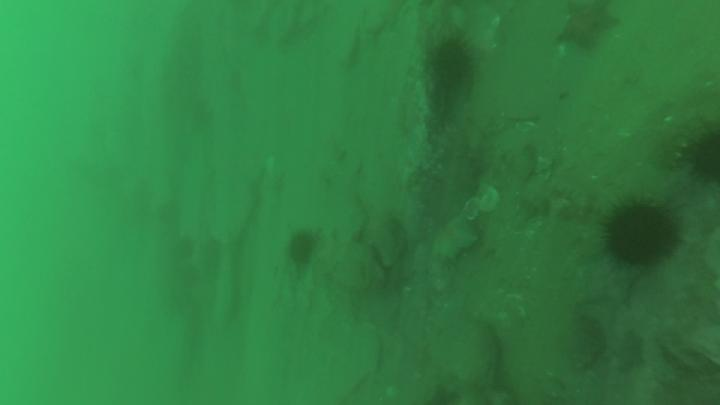echinus: (587, 185, 690, 275), (670, 114, 720, 192), (425, 33, 479, 91), (277, 223, 324, 271)
starfish: (557, 2, 625, 54)
